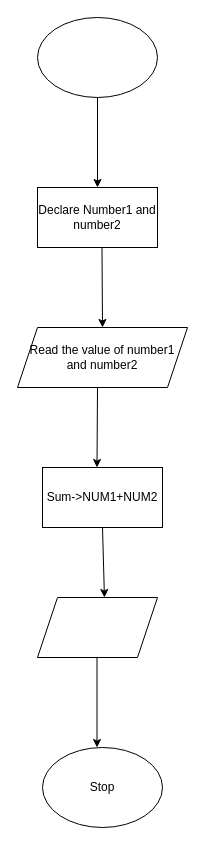
Image size: 205x845. Some labels were removed from this diagram. The shapes that lost their labels are listed below. From the top down, each one's box as (x1, y1, x2, y2) in pixels, then its label:
(36, 16, 158, 98): START
(36, 596, 158, 658): Display sum
